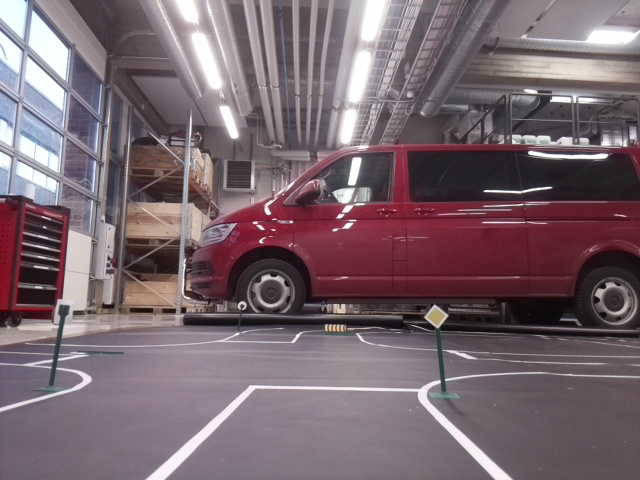Priority: (422, 305, 448, 327)
